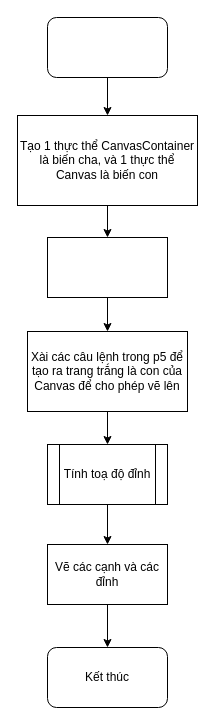
The diagram is 215 pixels wide and 725 high, and some of its shapes have lost their labels. Here are the shapes that lost their labels. From the top down, the box of each, then its label:
(46, 16, 168, 78): Bắt đầu vẽ
(46, 236, 168, 298): Sử dụng thư viện p5.js
